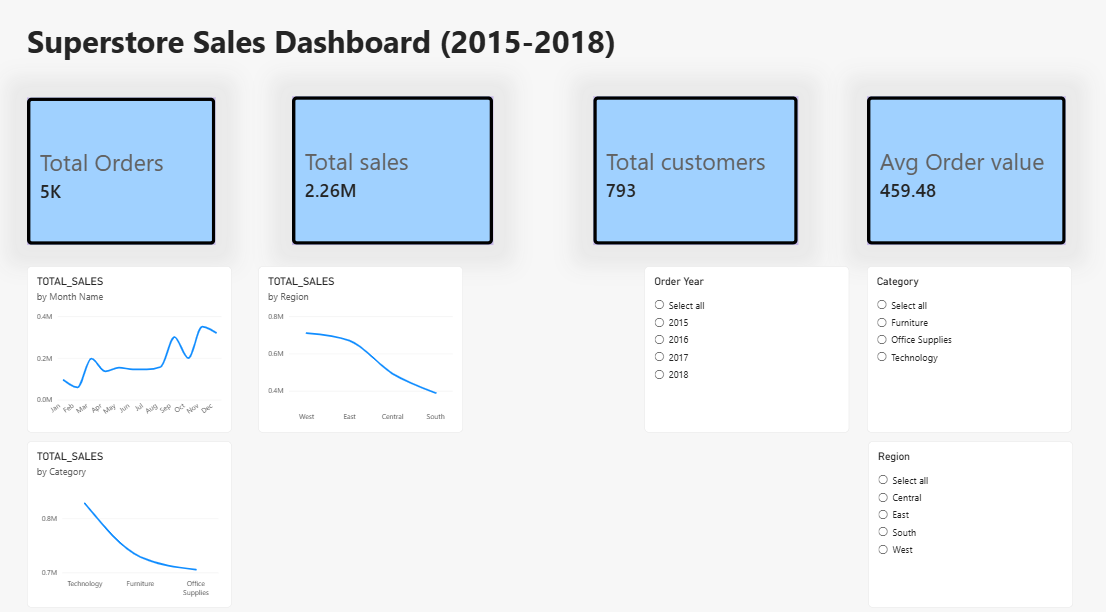

The page's visual inventory and layout, read from the dashboard file:
{"tool":"powerbi","page":{"name":"Page 1","canvas":[1920,1080],"ordinal":0},"visuals":[{"type":"cardVisual","fields":{"Data":["superstore_clean.TOTAL_ORDERS"]},"box":[52.5,177.3,326.8,255.4],"z":0},{"type":"cardVisual","fields":{"Data":["superstore_clean.TOTAL_SALES"]},"box":[510.3,175.5,348.4,257.5],"z":1},{"type":"cardVisual","fields":{"Data":["superstore_clean.AVG_ORDER_VALUE"]},"box":[1505.6,175.5,344.1,257.5],"z":2},{"type":"cardVisual","fields":{"Data":["superstore_clean.TOTAL_CUSTOMERS"]},"box":[1031.5,175.5,354.9,257.5],"z":3},{"type":"lineChart","title":"Monthly Sales Trend","fields":{"Category":["superstore_clean.Month Name"],"Y":["superstore_clean.TOTAL_SALES"]},"box":[52.5,470.5,354,288],"z":4},{"type":"clusteredBarChart","title":"Sales by Category","fields":{"Category":["superstore_clean.Category"],"Y":["superstore_clean.TOTAL_SALES"]},"box":[51.9,772.6,354,288],"z":5},{"type":"clusteredBarChart","title":"Sales by Region","fields":{"Category":["superstore_clean.Region"],"Y":["superstore_clean.TOTAL_SALES"]},"box":[452.4,470.5,354,288],"z":6},{"type":"listSlicer","fields":{"Values":["superstore_clean.Order Year"]},"box":[1120.2,470.5,354,288],"z":7},{"type":"listSlicer","fields":{"Values":["superstore_clean.Region"]},"box":[1507.4,772.7,354,288],"z":8},{"type":"listSlicer","fields":{"Values":["superstore_clean.Category"]},"box":[1505.6,470.5,354,288],"z":9},{"type":"textbox","box":[51.9,43.3,1798.4,108.2],"z":10}]}

Visuals, with their boxes in screenshot pixels (x1, y1, x2, y2), scaled from the page's 1920x1080 canvas onto the 1106x612 screenshot:
cardVisual - superstore_clean.TOTAL_ORDERS: rect(30, 100, 218, 245)
cardVisual - superstore_clean.TOTAL_SALES: rect(294, 99, 495, 245)
cardVisual - superstore_clean.AVG_ORDER_VALUE: rect(867, 99, 1066, 245)
cardVisual - superstore_clean.TOTAL_CUSTOMERS: rect(594, 99, 799, 245)
"Monthly Sales Trend" lineChart: rect(30, 267, 234, 430)
"Sales by Category" clusteredBarChart: rect(30, 438, 234, 601)
"Sales by Region" clusteredBarChart: rect(261, 267, 465, 430)
listSlicer - superstore_clean.Order Year: rect(645, 267, 849, 430)
listSlicer - superstore_clean.Region: rect(868, 438, 1072, 601)
listSlicer - superstore_clean.Category: rect(867, 267, 1071, 430)
textbox: rect(30, 25, 1066, 86)
